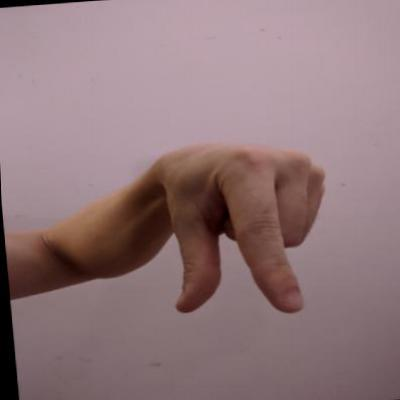hand: (152, 130, 343, 330)
